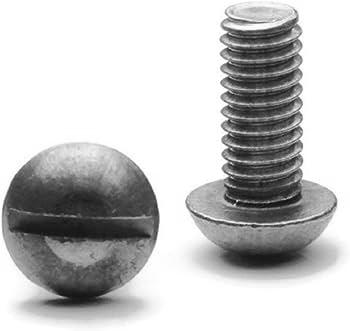slotted: (4, 139, 161, 302)
